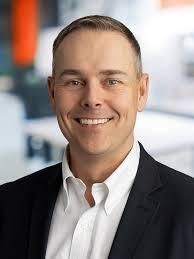person: (46, 9, 154, 163)
